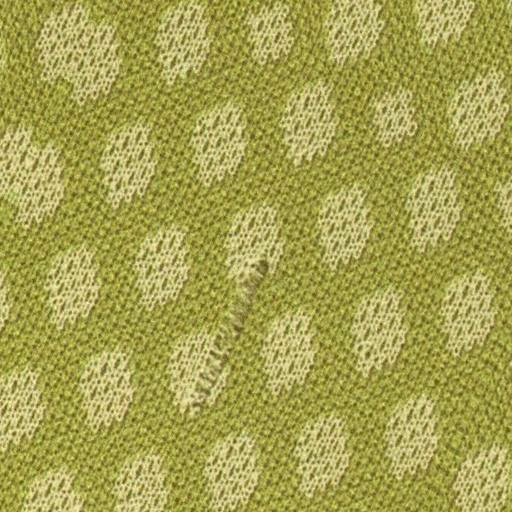slub: (171, 247, 301, 434)
